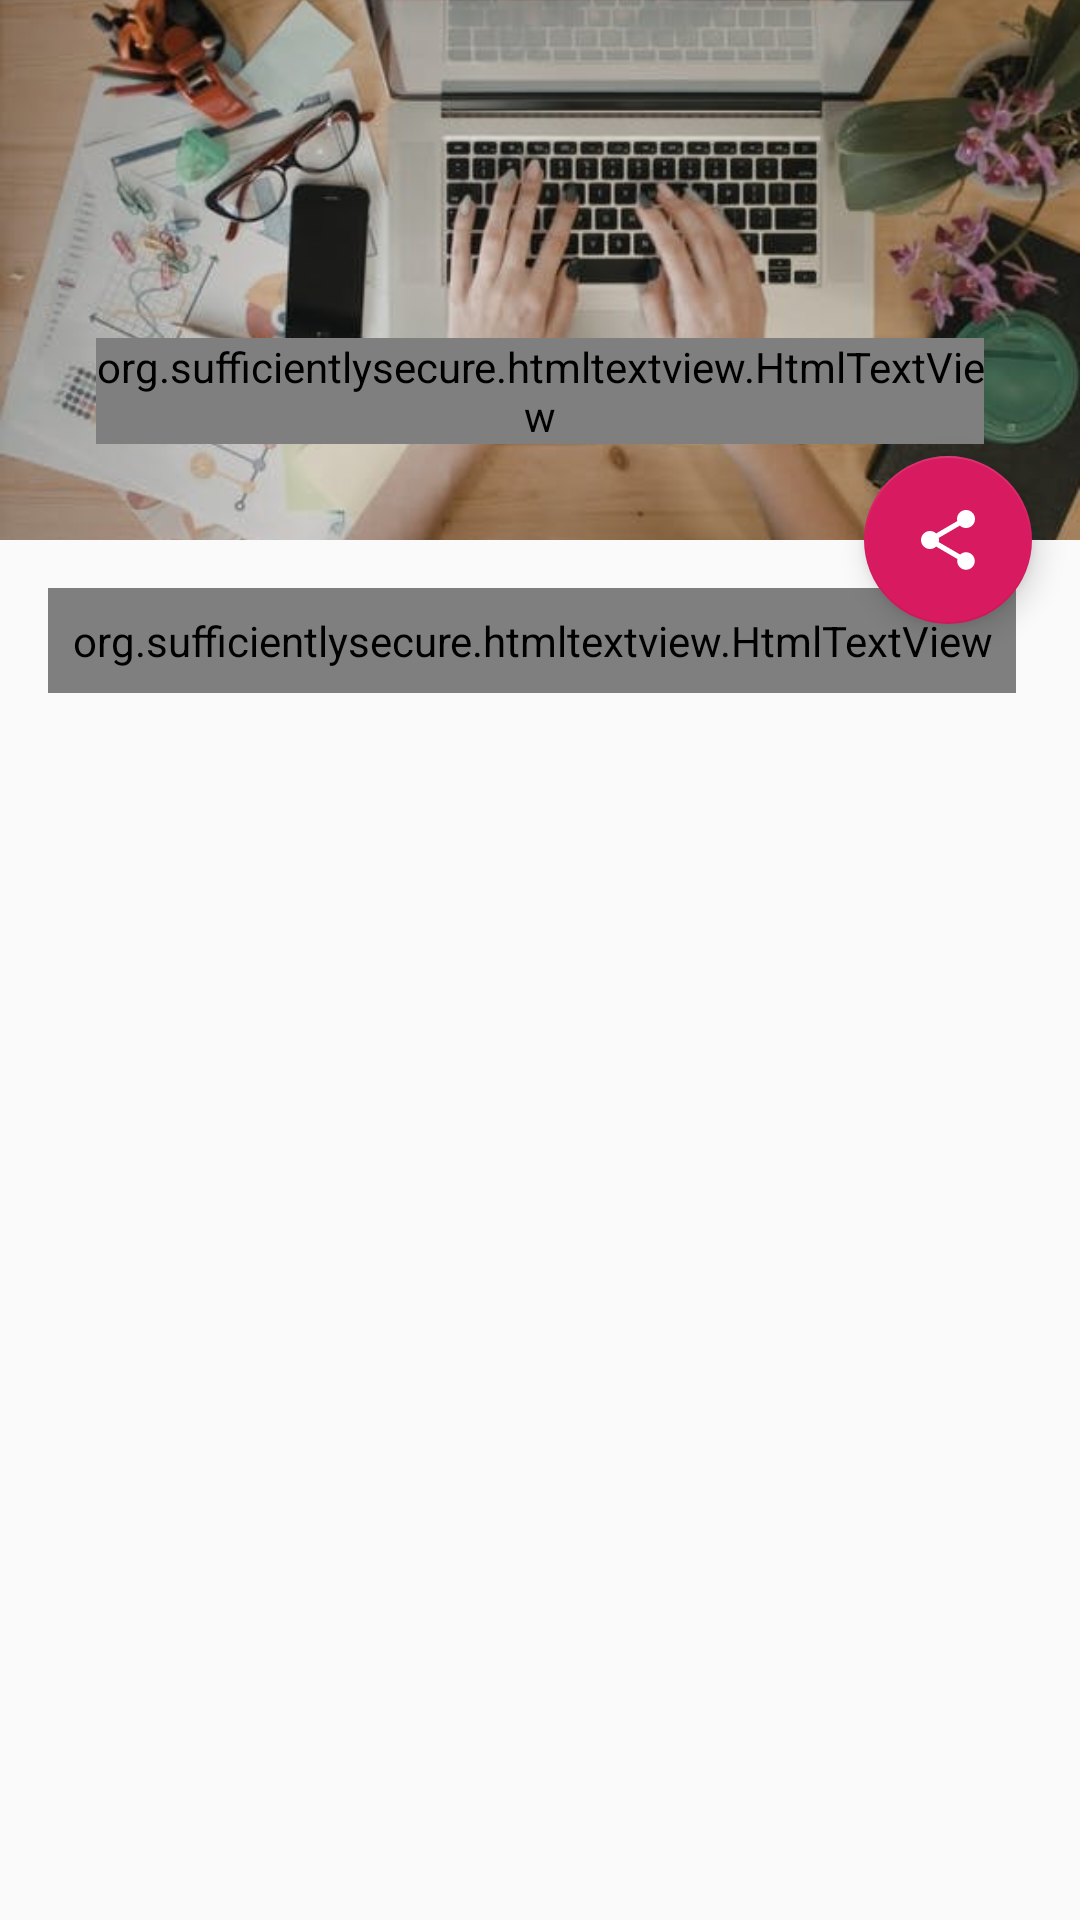

Screen size 1080px x 1920px. Icon name, then its center in pixels as point (x, y):
share: point (948, 540)
